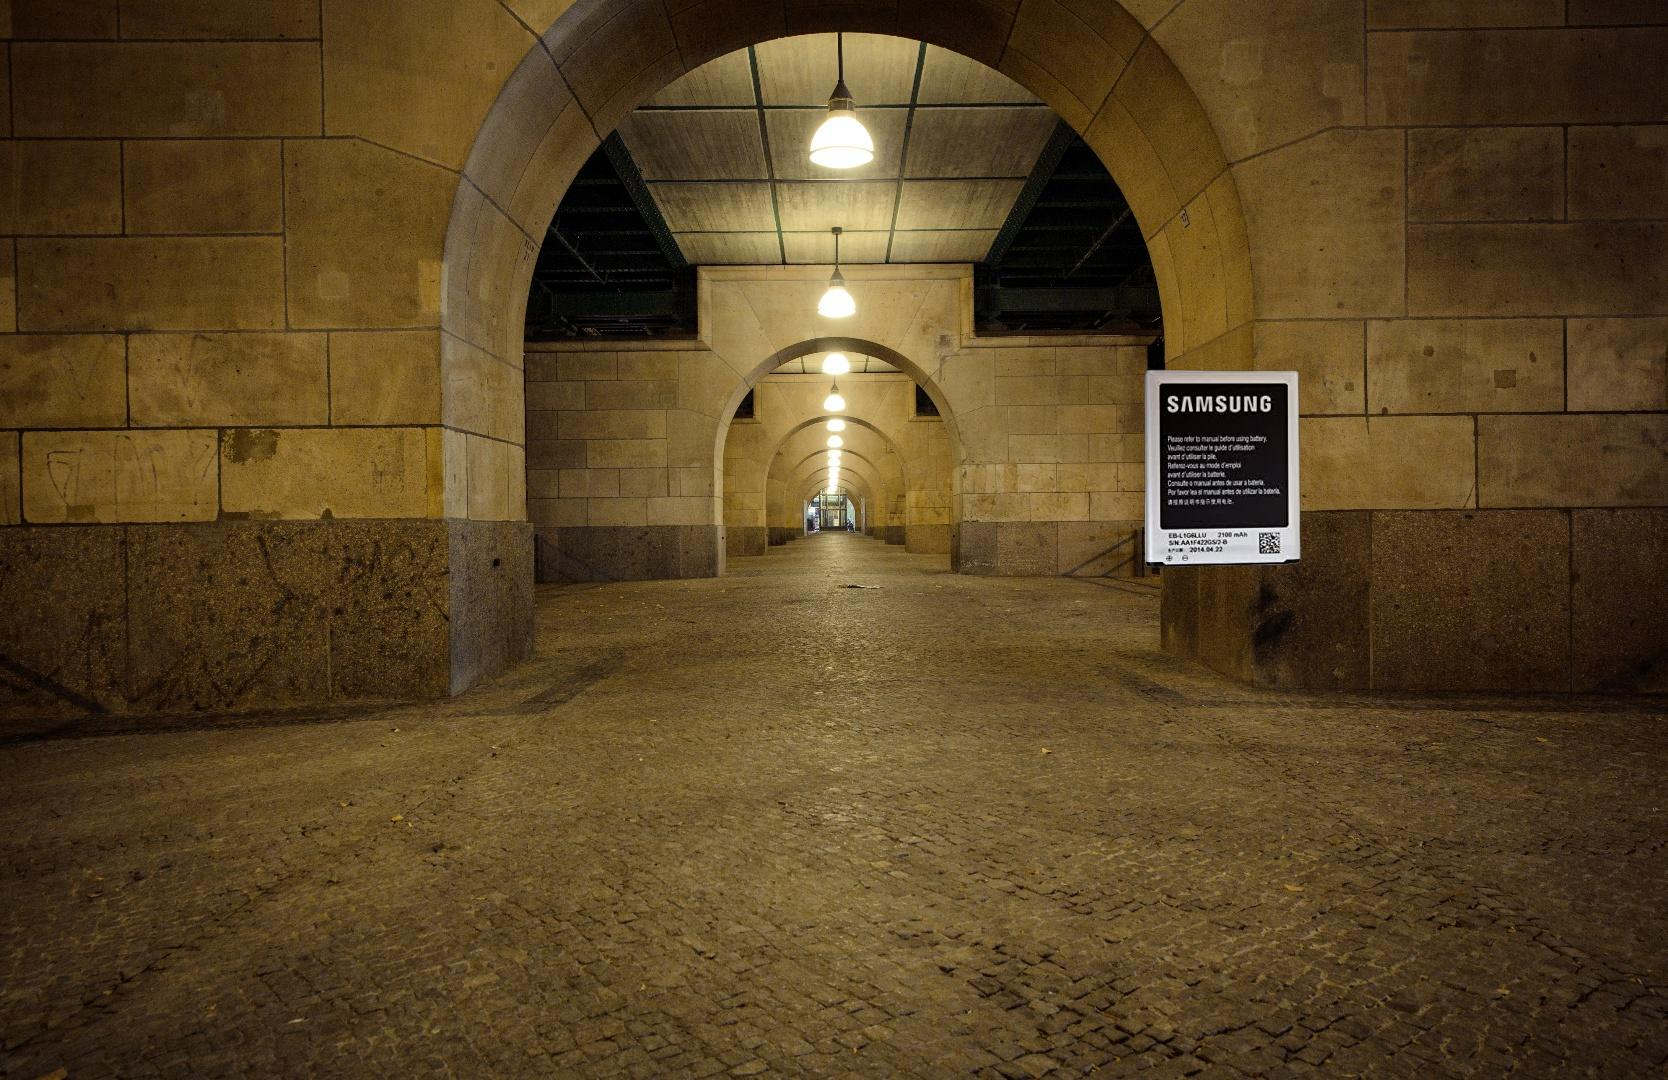battery: (1142, 369, 1304, 569)
